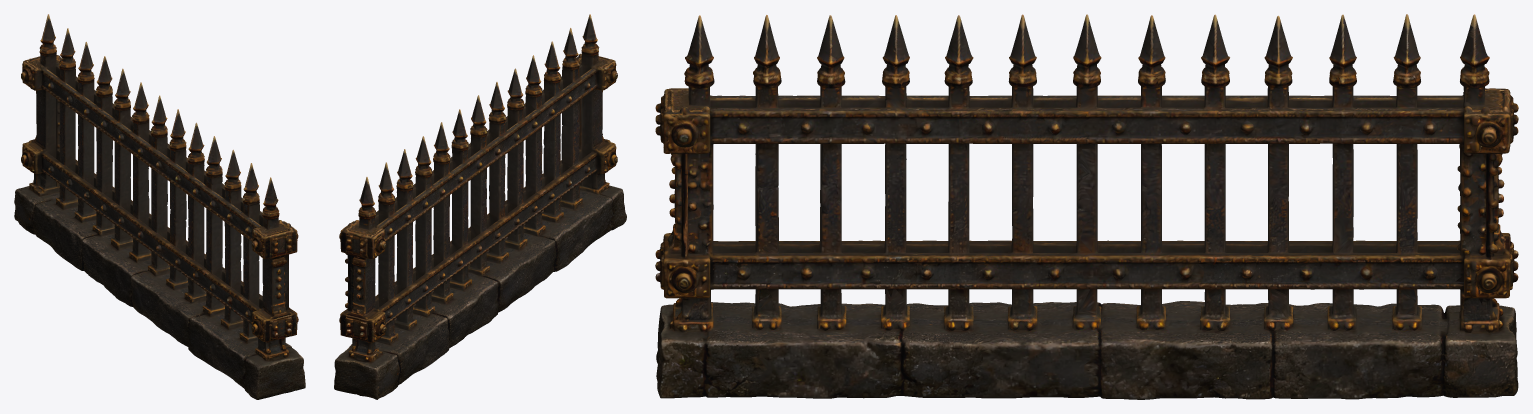
Rendered from raw_penbars.glb.
The picture shows the model from 3 angles, left to right: view 1: azimuth 30°, elevation 25°; view 2: azimuth 150°, elevation 25°; view 3: azimuth 270°, elevation 25°; orthographic projection. The views are drawn at different scales.
Parts seen in each view (by area): view 1: penbars; view 2: penbars; view 3: penbars.
Part boxes in pixels (x1,y1,x2,y2): penbars: (14,14,305,399); penbars: (334,14,626,399); penbars: (655,14,1518,399).
Bounding box in the file's own units: 0.1231 × 0.4663 × 1.
1 material, 1 textured.
